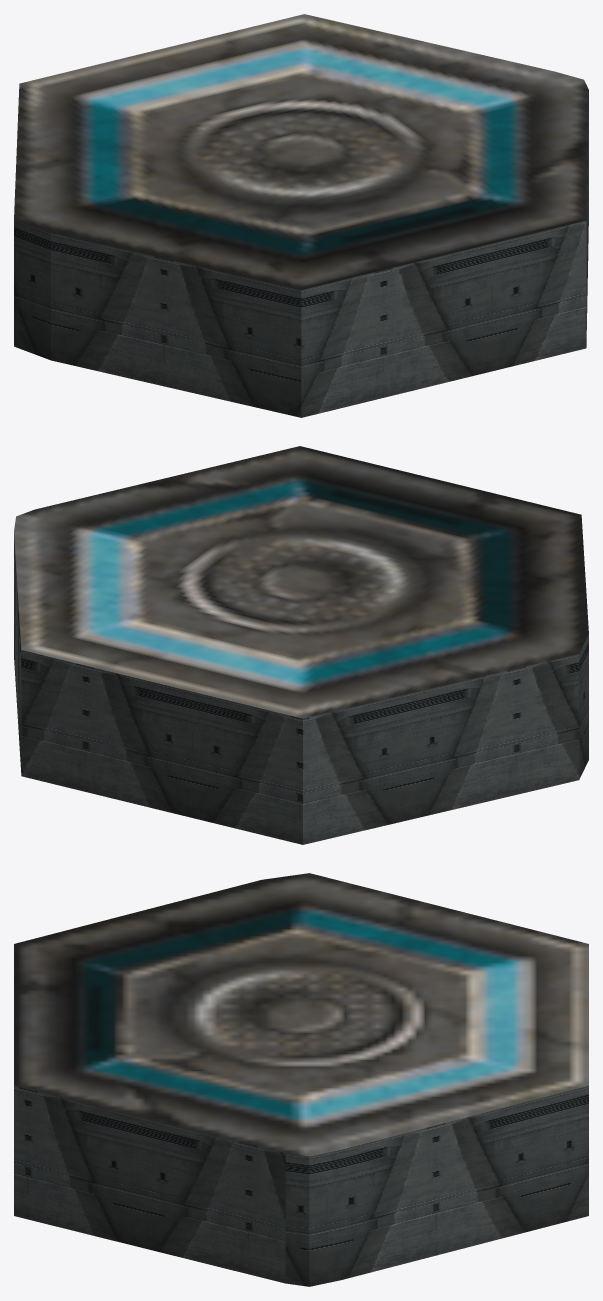
The model's file is gun_emplacement_light_01_cyn.glb.
The picture shows the model from 3 angles, top to bottom: view 1: azimuth 30°, elevation 25°; view 2: azimuth 150°, elevation 25°; view 3: azimuth 270°, elevation 25°; orthographic projection. The views are drawn at different scales.
Visible parts, largest first — view 1: buildings/saxarba/gun_emplacement/gun_emplacement_light_01_c; view 2: buildings/saxarba/gun_emplacement/gun_emplacement_light_01_c; view 3: buildings/saxarba/gun_emplacement/gun_emplacement_light_01_c.
Part boxes in pixels (x1,y1,x2,y2): buildings/saxarba/gun_emplacement/gun_emplacement_light_01_c: (14, 14, 588, 417); buildings/saxarba/gun_emplacement/gun_emplacement_light_01_c: (14, 446, 588, 844); buildings/saxarba/gun_emplacement/gun_emplacement_light_01_c: (14, 873, 588, 1286).
Bounding box in the file's own units: 84 × 18 × 72.
